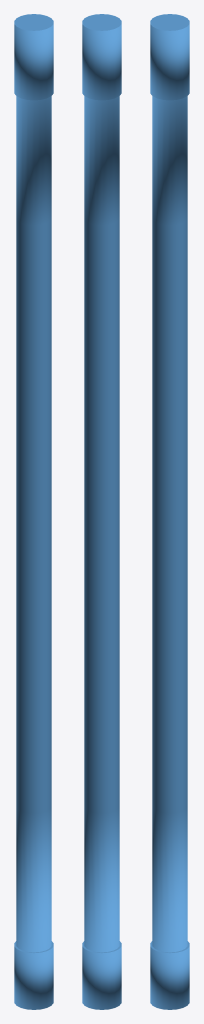
Rendered from Wand.fbx.
3 views of the same model, side by side, from view 1: azimuth 90°, elevation 25°; view 2: azimuth 210°, elevation 25°; view 3: azimuth 270°, elevation 25° (orthographic).
Visible parts, largest first — view 1: Wand; view 2: Wand; view 3: Wand.
Part boxes in pixels (x1=…): Wand: x1=14, y1=14, x2=53, y2=1009; Wand: x1=82, y1=14, x2=121, y2=1009; Wand: x1=150, y1=14, x2=189, y2=1009.
Size of the model in its own units: 0.0214 by 0.5755 by 0.021.
